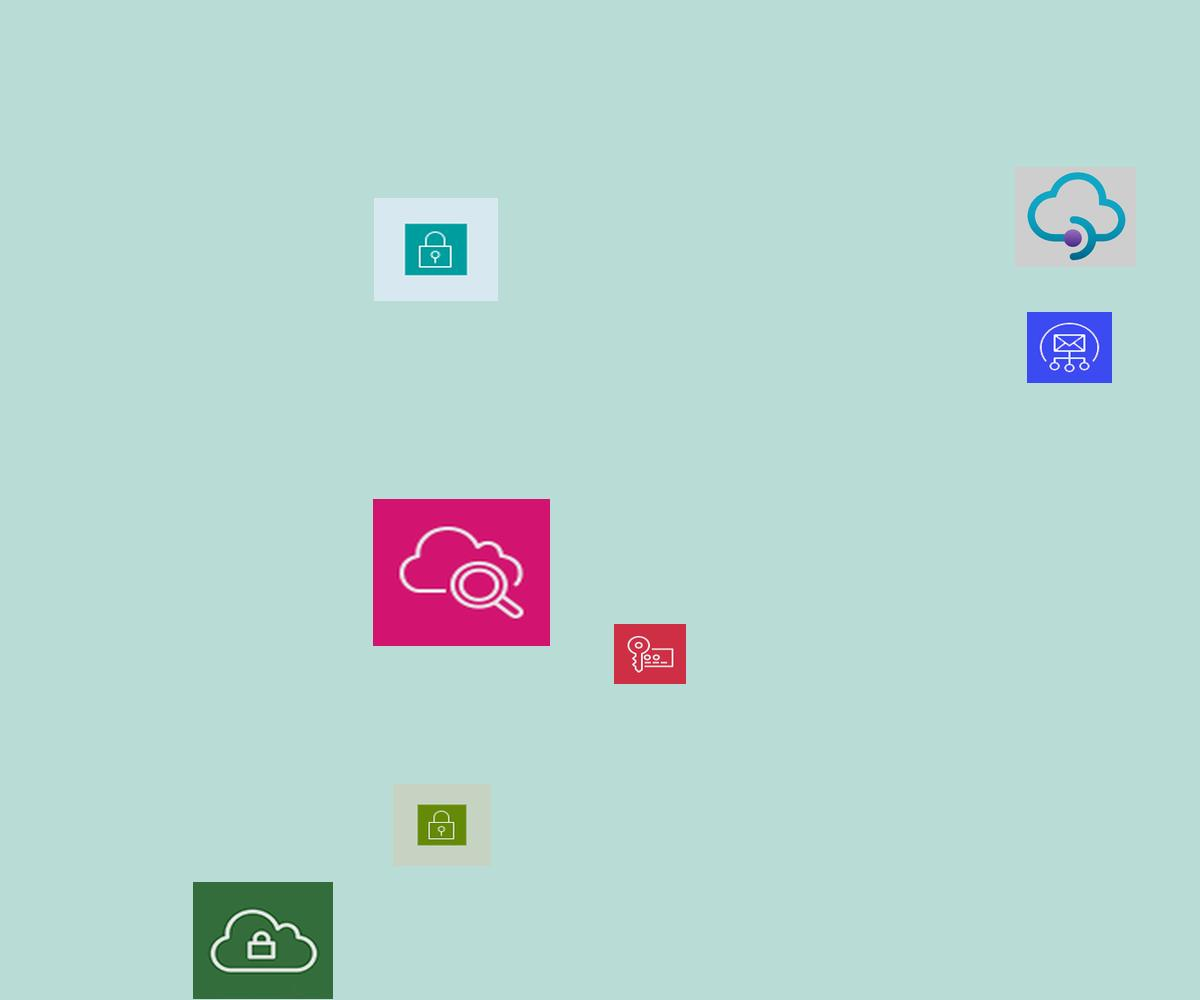AWS-CloudWatch: (373, 499, 550, 646)
AWS-Key-Management-Service: (614, 624, 686, 684)
AWS-Private-subnet: (374, 198, 498, 301)
AWS-Private_vpc: (193, 882, 333, 999)
AWS-Public-subnet: (393, 784, 491, 866)
AWS-Simple-Email-Service: (1027, 312, 1112, 383)
Azure_api_gateway: (1015, 167, 1136, 267)
